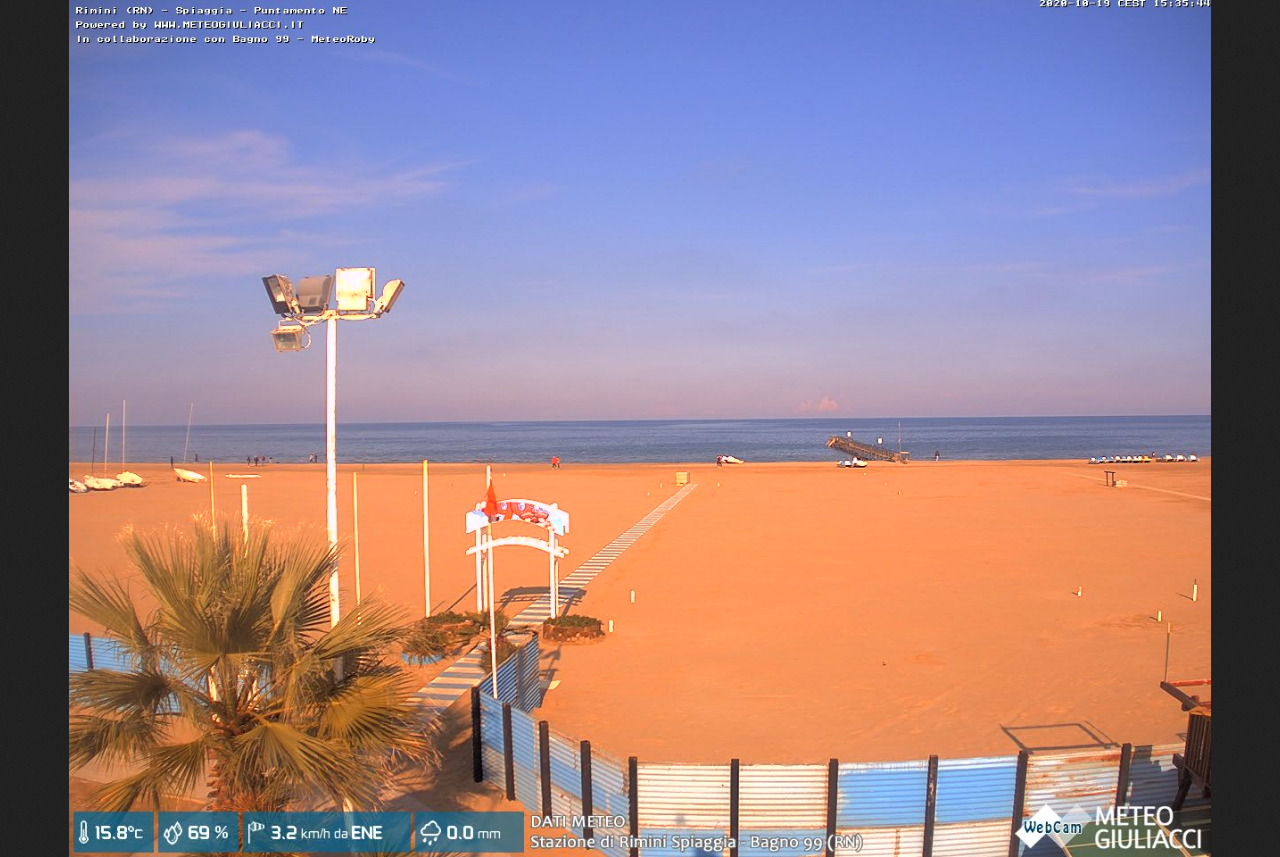no: (480, 468, 502, 525)
